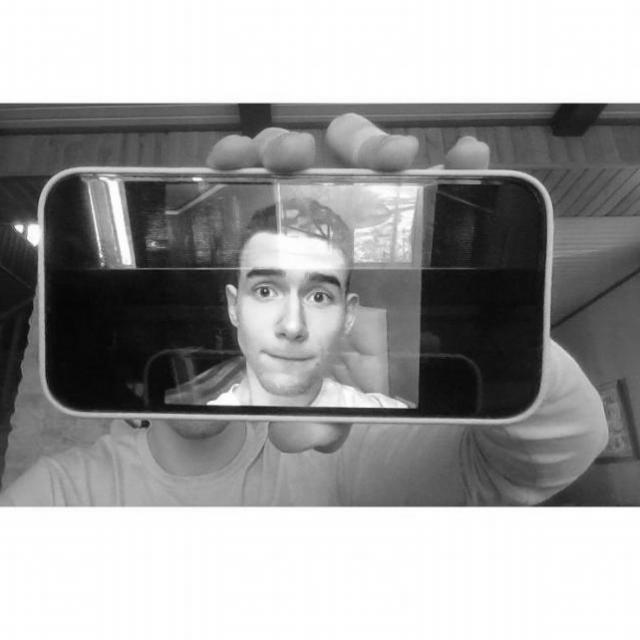fake: (46, 174, 548, 428)
